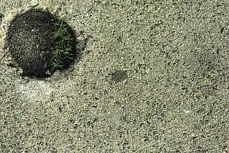Spalling: (6, 8, 77, 81)
